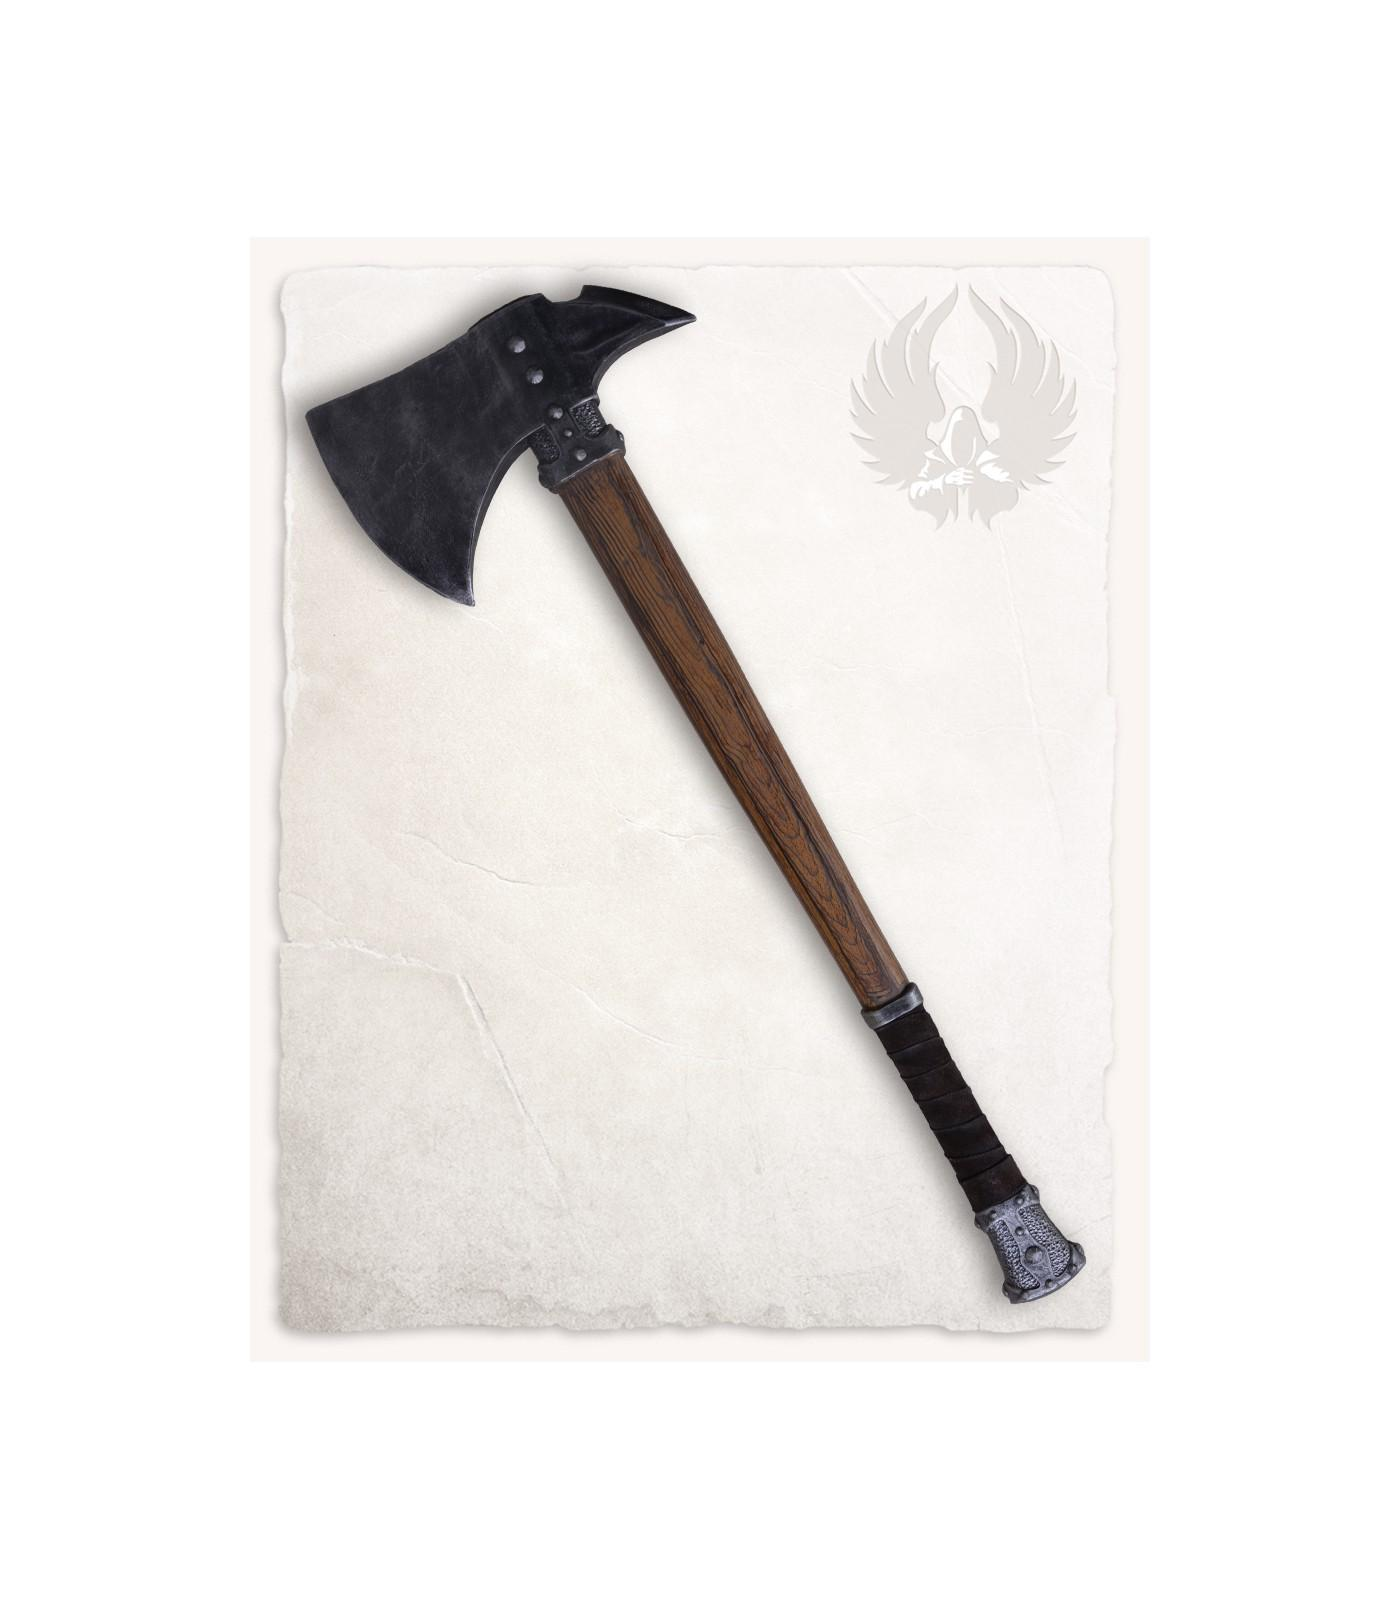machado: (306, 286, 1082, 1301)
